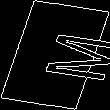M_W: (9, 26, 101, 84)
